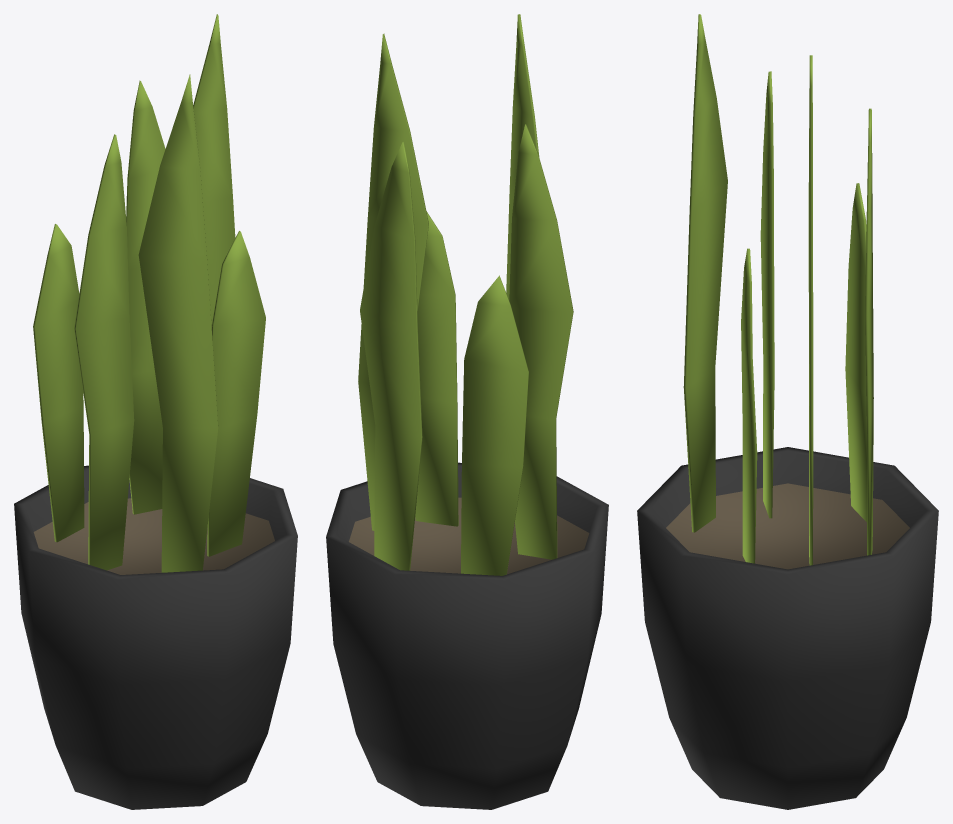
The model's file is Houseplant_4.glb.
3 renders of one model, left to right at view 1: azimuth 30°, elevation 25°; view 2: azimuth 150°, elevation 25°; view 3: azimuth 270°, elevation 25°, orthographic. The views are drawn at different scales.
Visible parts, largest first — view 1: Houseplant_4; view 2: Houseplant_4; view 3: Houseplant_4.
Boxes of the visible parts, x1,y1,x2,y2 form: Houseplant_4: [14, 14, 297, 809]; Houseplant_4: [326, 14, 608, 809]; Houseplant_4: [637, 14, 938, 809].
Bounding box in the file's own units: 0.3383 × 0.9284 × 0.3383.
